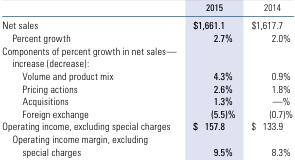table: (1, 1, 292, 157)
table column: (1, 1, 180, 157), (180, 1, 242, 157), (242, 1, 292, 157)
table column header: (1, 1, 292, 15)
table projected row header: (1, 43, 292, 68)
table row: (1, 43, 292, 68), (1, 132, 292, 157), (1, 15, 292, 30), (1, 1, 292, 15), (1, 30, 292, 43), (1, 68, 292, 81), (1, 81, 292, 94), (1, 106, 292, 119), (1, 119, 292, 132), (1, 94, 292, 106)
